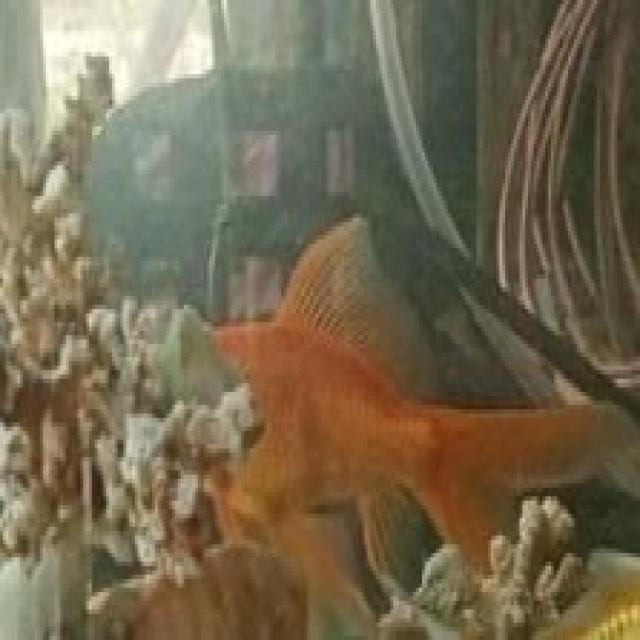Gold-Fish: (81, 181, 638, 614)
